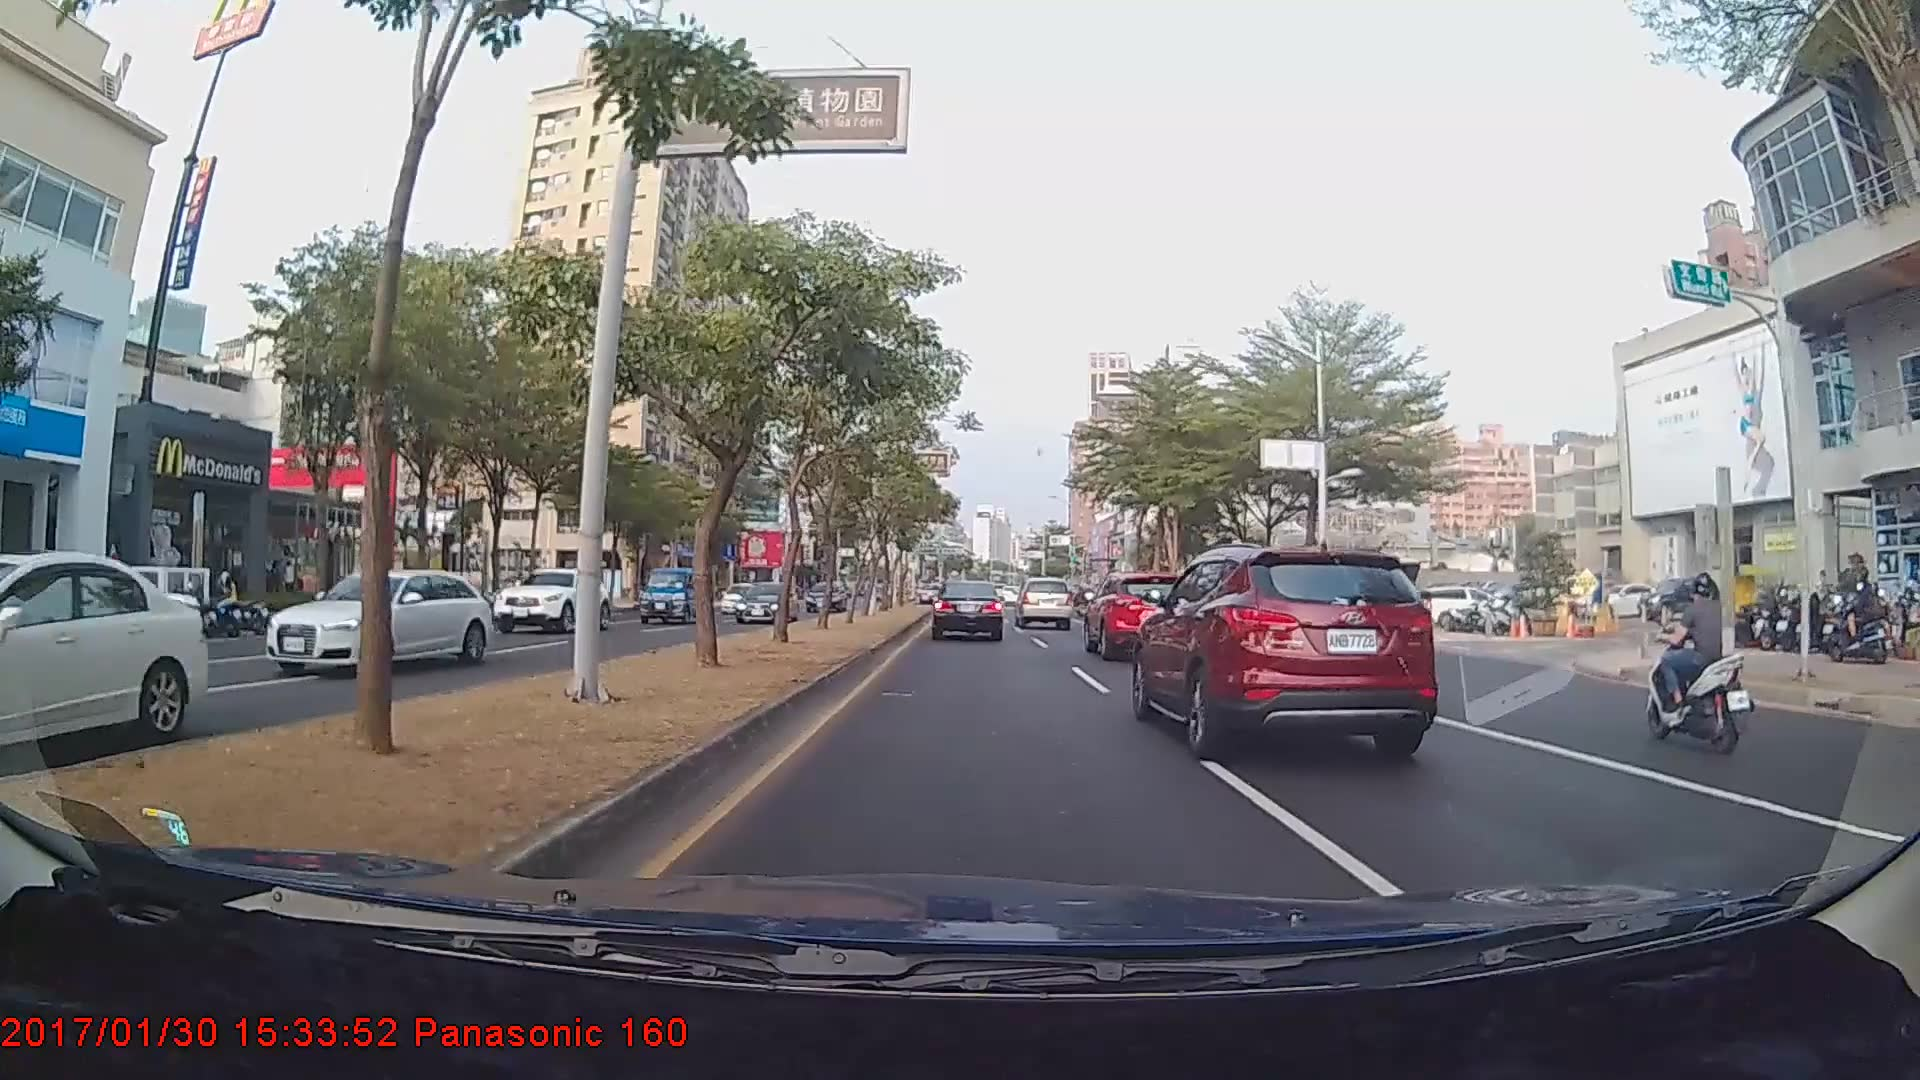rider: (1631, 568, 1753, 755)
vehicle: (1140, 546, 1436, 749), (0, 552, 209, 775), (259, 567, 493, 675), (1083, 573, 1210, 660), (496, 565, 616, 630), (932, 580, 1003, 642), (639, 563, 709, 624), (1014, 576, 1073, 630), (735, 583, 796, 623), (804, 577, 846, 611)
